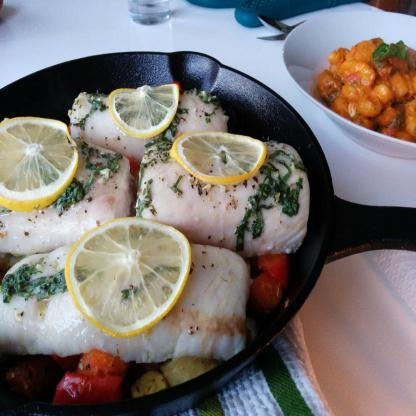lemon: (65, 217, 192, 337), (0, 116, 79, 212), (171, 131, 267, 185), (109, 82, 180, 138)
